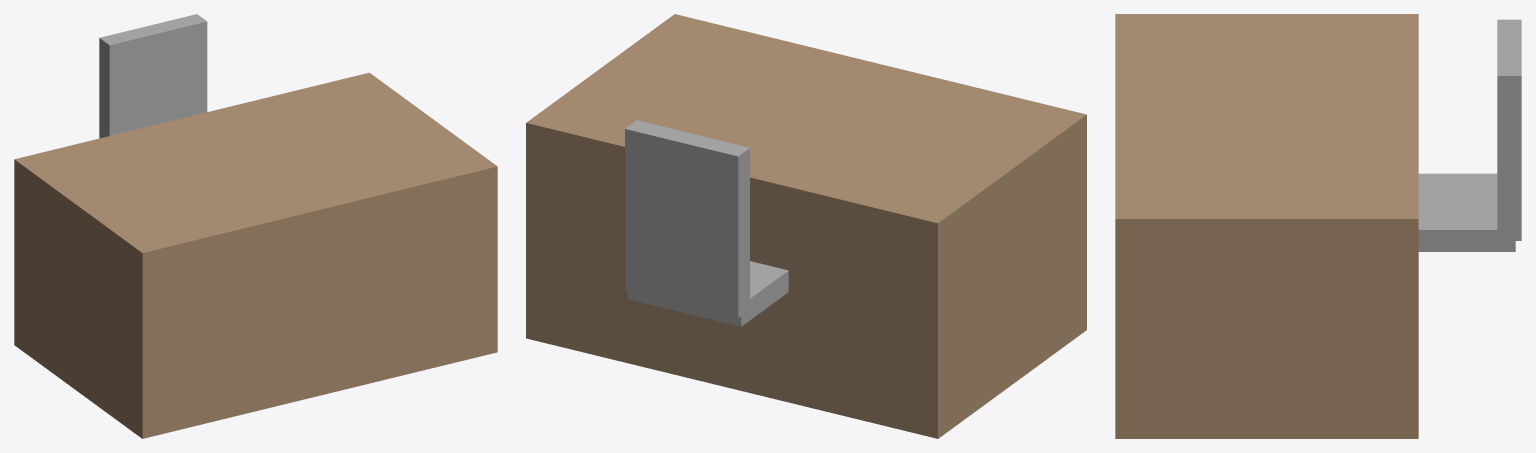
File: office_desk_chair.glb
3 renders of one model, left to right at view 1: azimuth 30°, elevation 25°; view 2: azimuth 150°, elevation 25°; view 3: azimuth 270°, elevation 25°, orthographic. The views are drawn at different scales.
Parts seen in each view (by area): view 1: desk, back; view 2: desk, back, seat; view 3: desk, seat, back.
Part boxes in pixels (x1=…): desk: x1=14, y1=72, x2=497, y2=438; back: x1=99, y1=14, x2=207, y2=138; desk: x1=526, y1=14, x2=1086, y2=438; back: x1=625, y1=120, x2=749, y2=317; seat: x1=628, y1=261, x2=788, y2=326; desk: x1=1115, y1=14, x2=1418, y2=438; seat: x1=1418, y1=173, x2=1515, y2=251; back: x1=1497, y1=19, x2=1521, y2=240.
Bounding box in the file's own units: 1.6 × 1.05 × 1.34.
